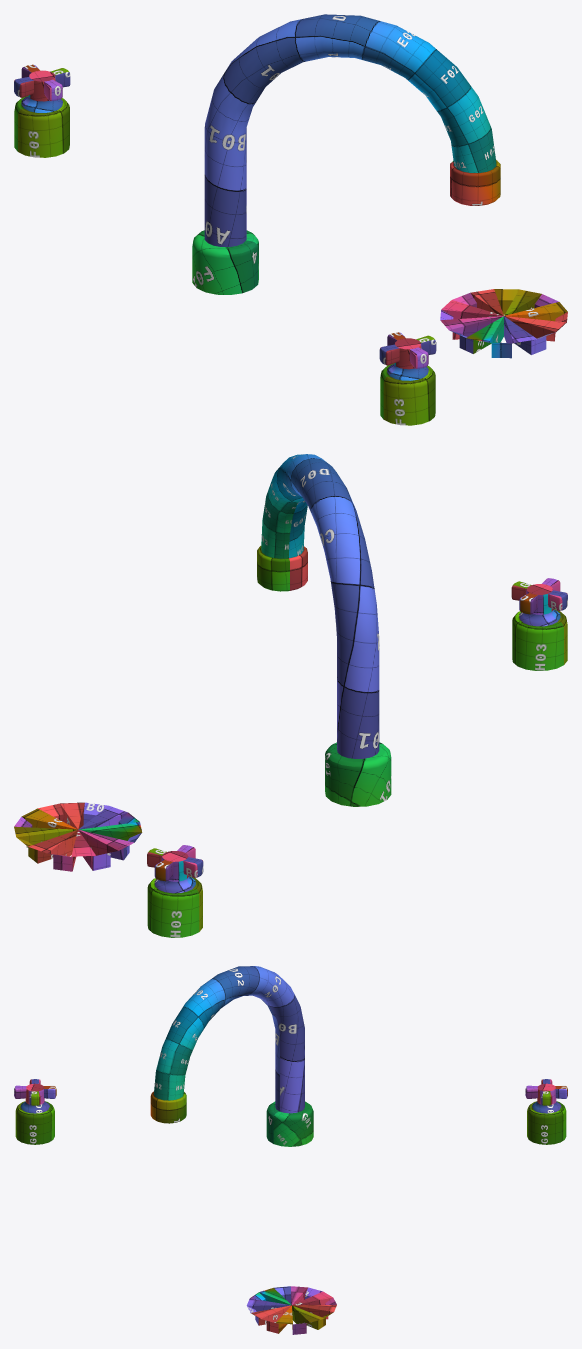
The model's file is ACC_low.fbx.
The picture shows the model from 3 angles, top to bottom: view 1: azimuth 30°, elevation 25°; view 2: azimuth 150°, elevation 25°; view 3: azimuth 270°, elevation 25°; orthographic projection. The views are drawn at different scales.
Visible parts, largest first — view 1: Robinet_low, WaterEvac_low, HotWater_low, ColdWater_low; view 2: Robinet_low, WaterEvac_low, HotWater_low, ColdWater_low; view 3: Robinet_low, WaterEvac_low, HotWater_low, ColdWater_low.
Boxes of the visible parts, x1,y1,x2,y2 form: Robinet_low: [192, 14, 500, 294]; WaterEvac_low: [440, 289, 567, 358]; HotWater_low: [379, 332, 436, 425]; ColdWater_low: [14, 64, 70, 157]; Robinet_low: [257, 454, 391, 806]; WaterEvac_low: [14, 802, 142, 871]; HotWater_low: [511, 578, 567, 670]; ColdWater_low: [147, 845, 203, 937]; Robinet_low: [150, 966, 313, 1146]; WaterEvac_low: [246, 1286, 336, 1334]; HotWater_low: [14, 1079, 56, 1144]; ColdWater_low: [525, 1079, 567, 1144].
Size of the model in its own units: 49.19 by 51.64 by 92.53.
